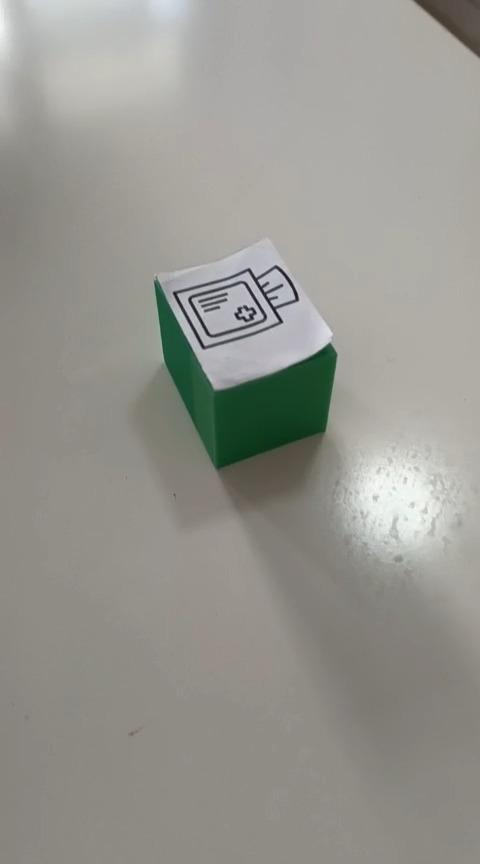Gauze: (152, 236, 338, 470)
